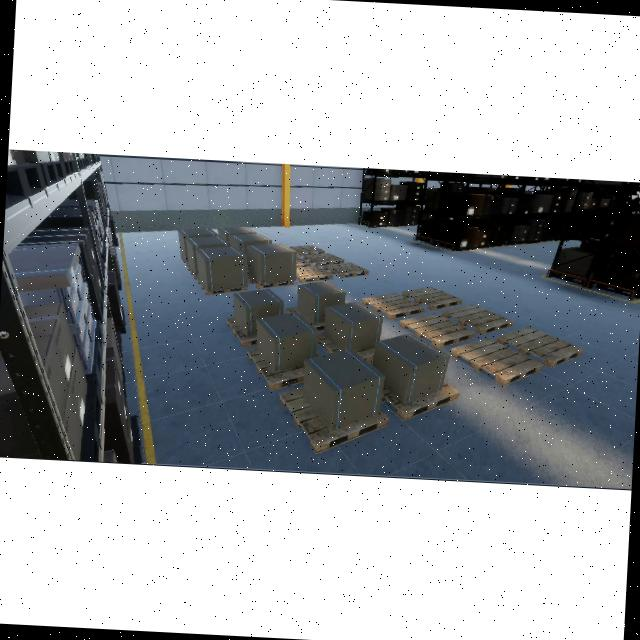wooden_pallet: (280, 386, 389, 453), (451, 338, 543, 386), (497, 327, 585, 369), (381, 380, 460, 422), (399, 313, 475, 349), (247, 348, 304, 391), (442, 304, 514, 335), (362, 293, 424, 319), (402, 287, 462, 310), (226, 317, 257, 347), (198, 278, 248, 295), (323, 262, 369, 278), (248, 274, 294, 289), (296, 266, 333, 283), (303, 253, 344, 266), (289, 245, 325, 256)
